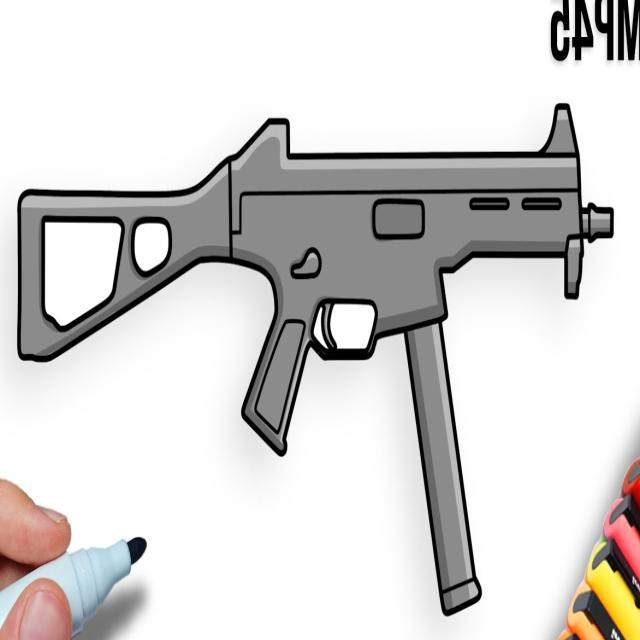Gun: (0, 91, 636, 638)
